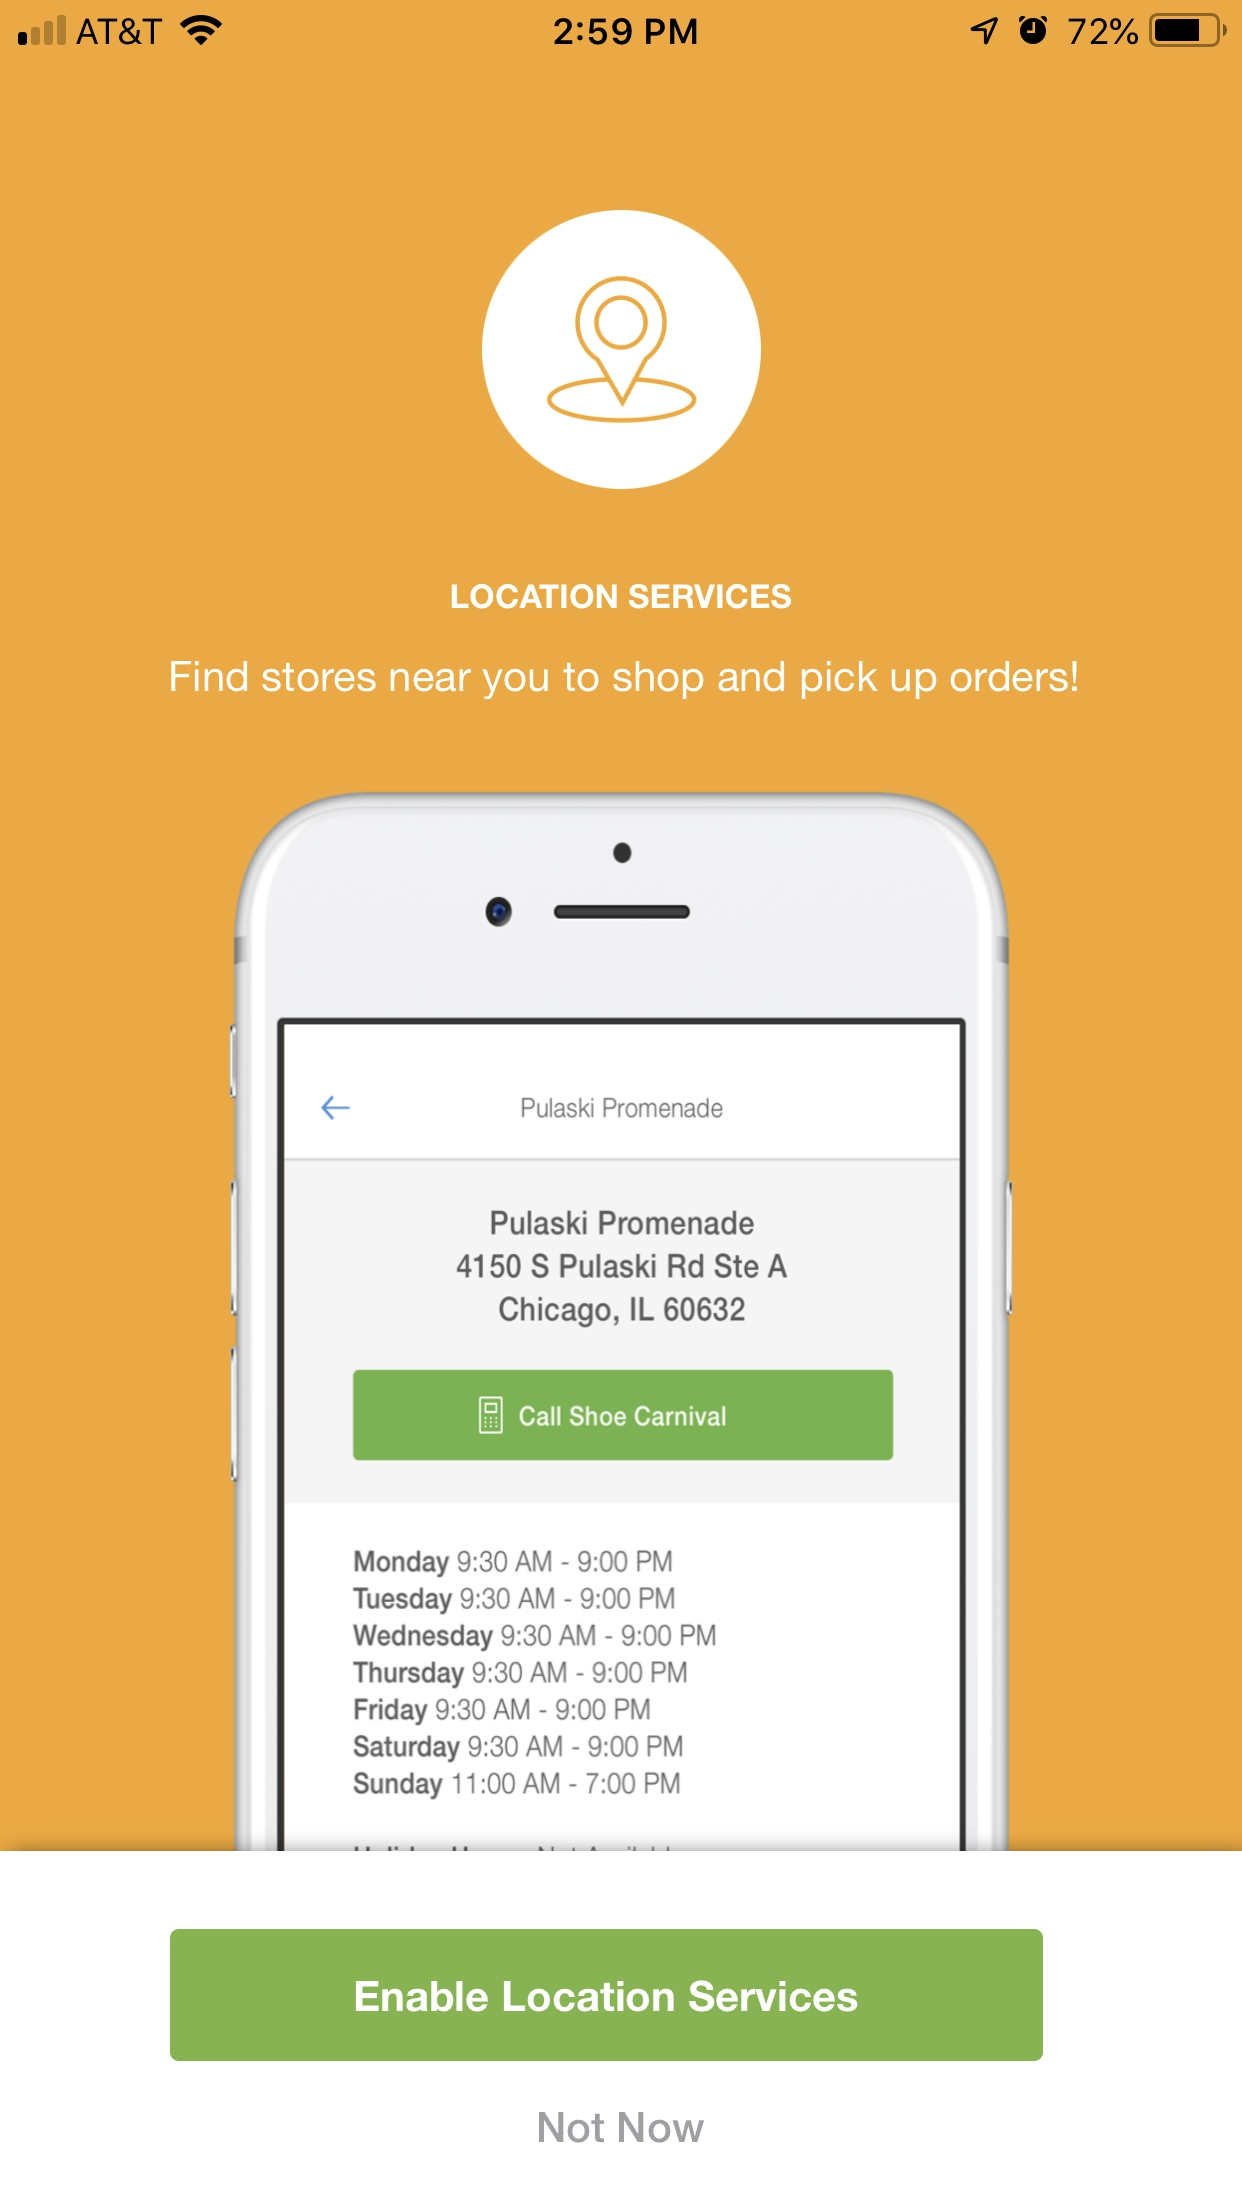Icon: (482, 209, 763, 491)
Image: (229, 792, 1015, 1852)
Text: (171, 660, 1078, 701), (450, 584, 792, 611), (538, 2112, 705, 2144)
TextButton: (170, 1929, 1043, 2062)
UpperTaskBar: (2, 2, 1242, 49)
